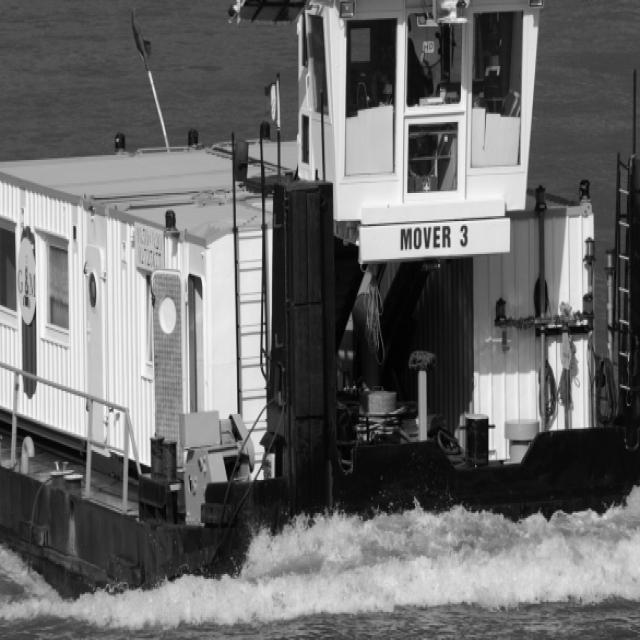tugboat: (1, 1, 640, 625)
